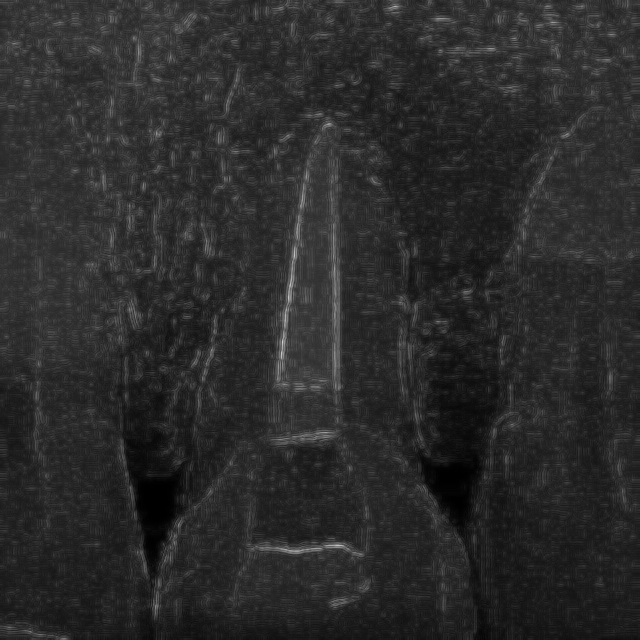Class 0- No endodontic treatment: (149, 87, 482, 439)
